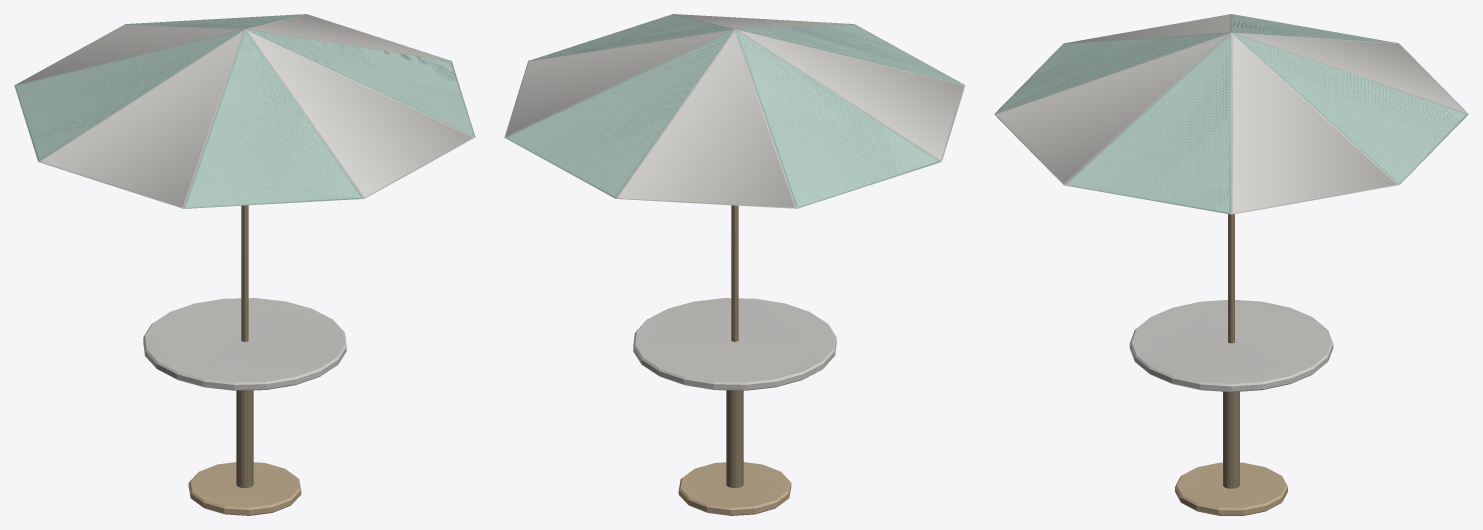
Rendered from furn_parasol_table__mint.glb.
3 renders of one model, left to right at view 1: azimuth 30°, elevation 25°; view 2: azimuth 150°, elevation 25°; view 3: azimuth 270°, elevation 25°, orthographic.
Size of the model in its own units: 2.1 by 2.25 by 2.1.
